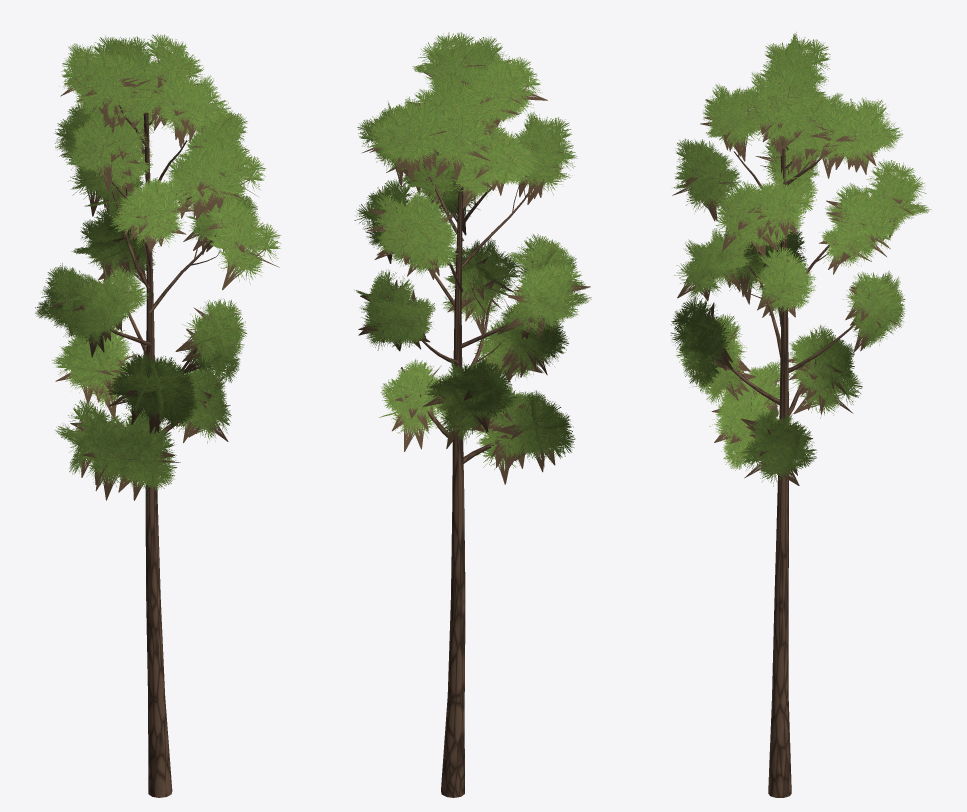
The model's file is veg_slash_pine_b.fbx.
3 views of the same model, side by side, from view 1: azimuth 30°, elevation 25°; view 2: azimuth 150°, elevation 25°; view 3: azimuth 270°, elevation 25° (orthographic). The views are drawn at different scales.
Visible parts, largest first — view 1: veg_slash_pine_b_LOD0; view 2: veg_slash_pine_b_LOD0; view 3: veg_slash_pine_b_LOD0.
Part boxes in pixels (bbox=[...]): veg_slash_pine_b_LOD0: bbox=[35, 34, 280, 797]; veg_slash_pine_b_LOD0: bbox=[354, 32, 591, 797]; veg_slash_pine_b_LOD0: bbox=[670, 32, 931, 797].
Size of what is drawn, in the model's own units: 5.99 by 17.44 by 6.67.
Materials: 2 (2 with a texture image).
